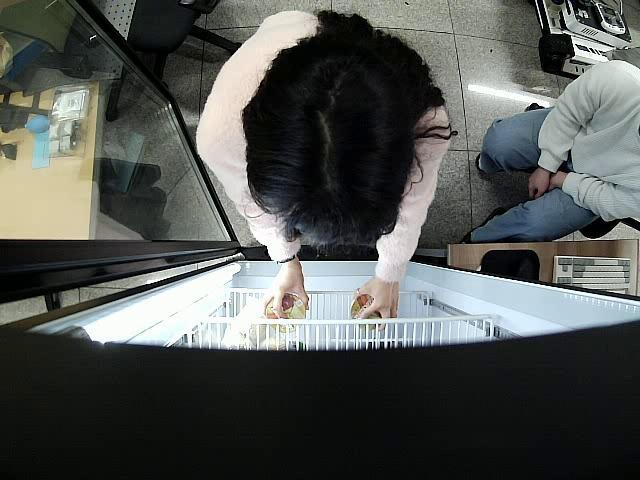04_chapagetti_S: (264, 294, 308, 332), (349, 290, 388, 330)
